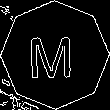M_N: (32, 30, 78, 80)
